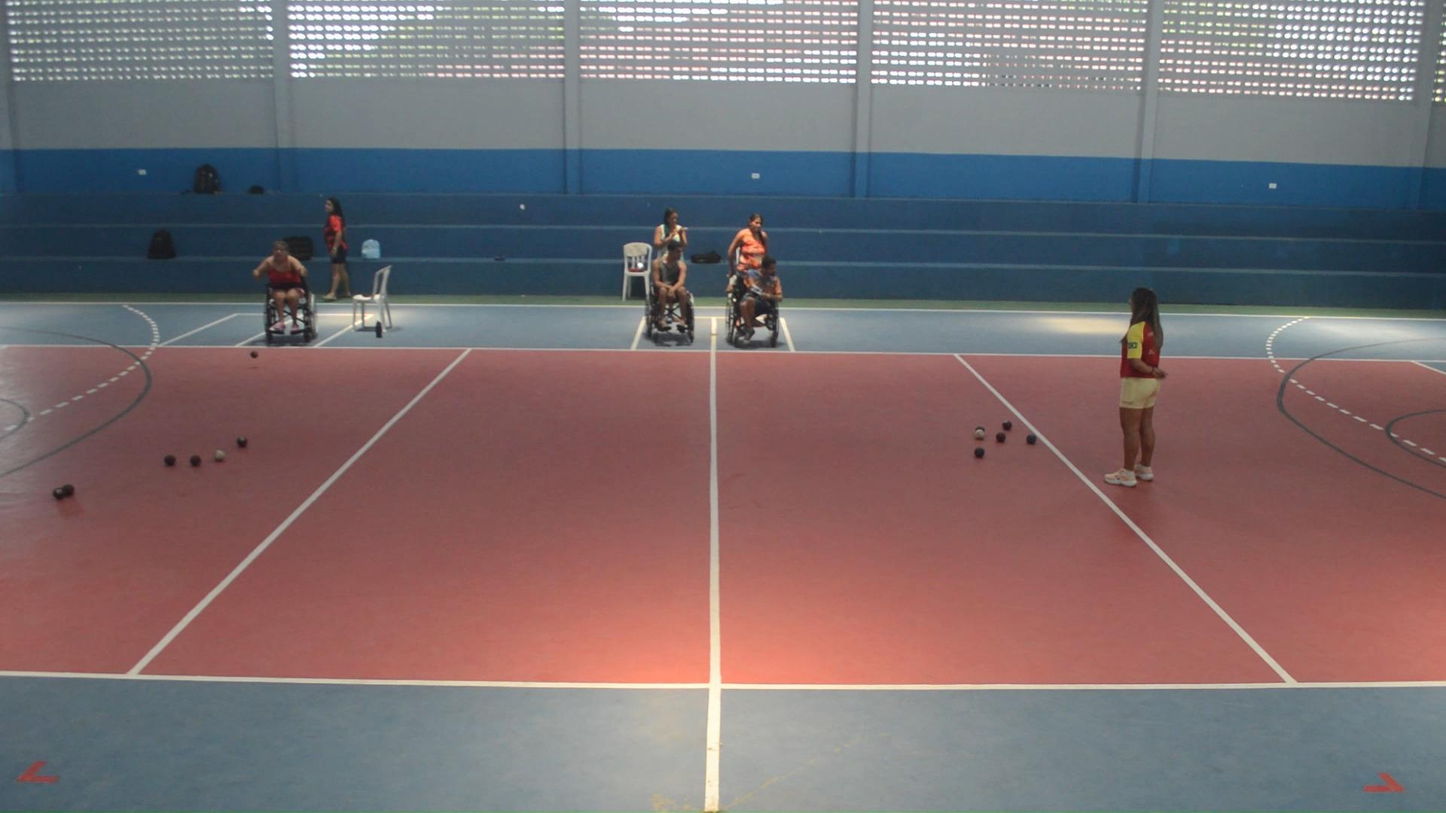blue_ball: (1026, 434, 1037, 444), (975, 448, 984, 456)
red_ball: (996, 432, 1006, 442), (1002, 420, 1012, 429)
white_ball: (975, 430, 984, 439)
